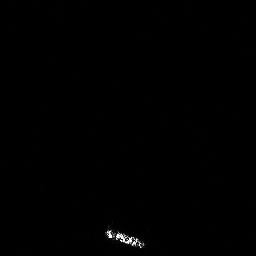ship: (104, 228, 147, 250)
